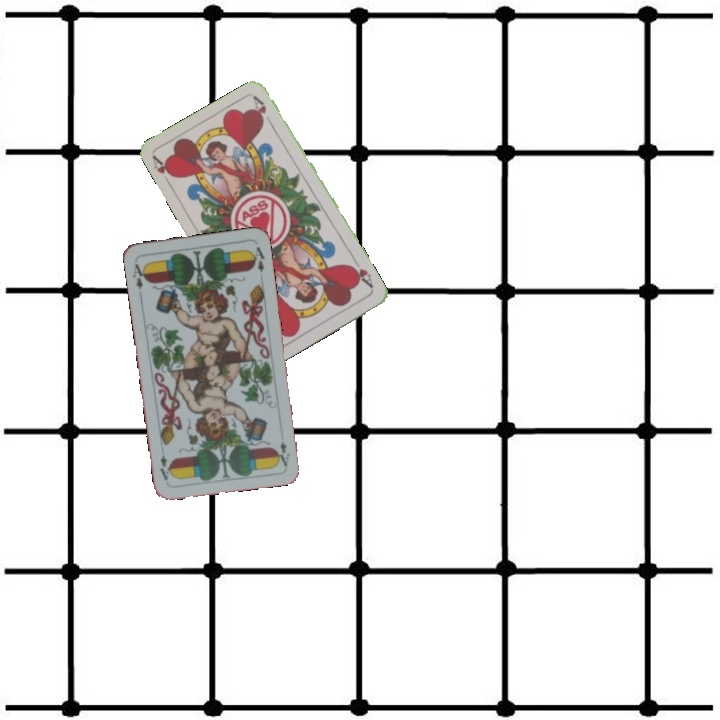EA: (128, 257, 149, 292), (274, 437, 292, 469)
HA: (148, 152, 178, 190), (346, 255, 376, 291)
